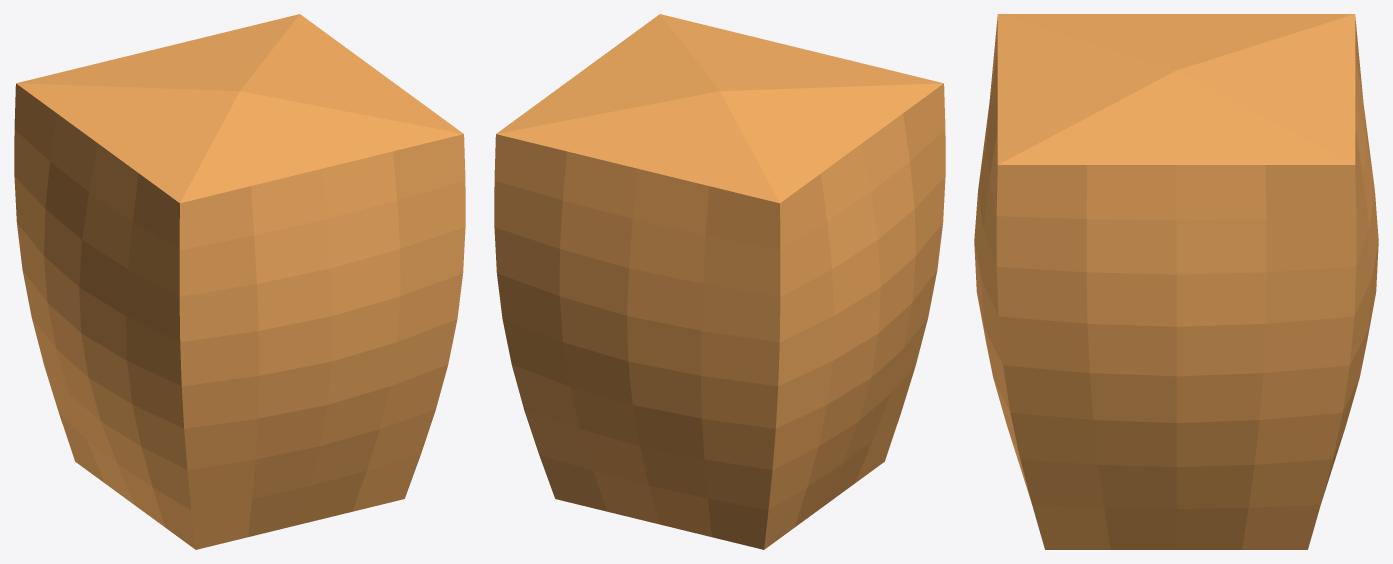
The model's file is SkyLanternGlow.glb.
The picture shows the model from 3 angles, left to right: view 1: azimuth 30°, elevation 25°; view 2: azimuth 150°, elevation 25°; view 3: azimuth 270°, elevation 25°; orthographic projection. The views are drawn at different scales.
Visible parts, largest first — view 1: Paper; view 2: Paper; view 3: Paper.
Part boxes in pixels (bbox=[...]): Paper: bbox=[14, 14, 465, 549]; Paper: bbox=[494, 14, 945, 549]; Paper: bbox=[974, 14, 1378, 549].
Bounding box in the file's own units: 1.54 × 1.78 × 1.54.
